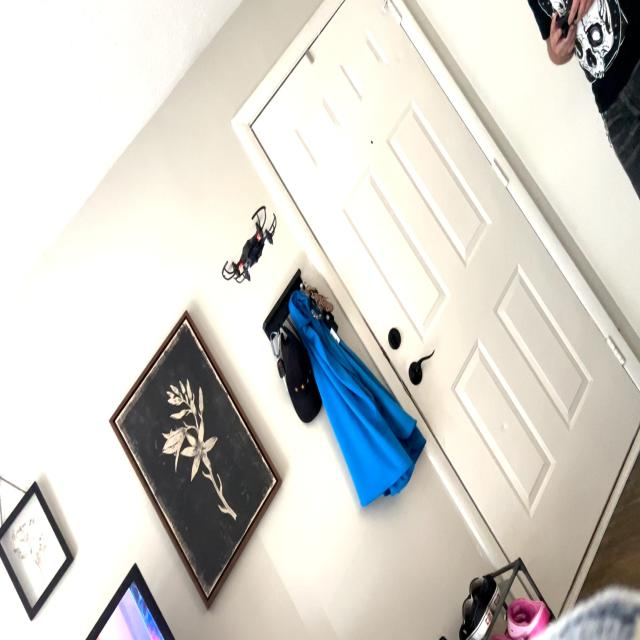drone: (215, 187, 283, 297)
